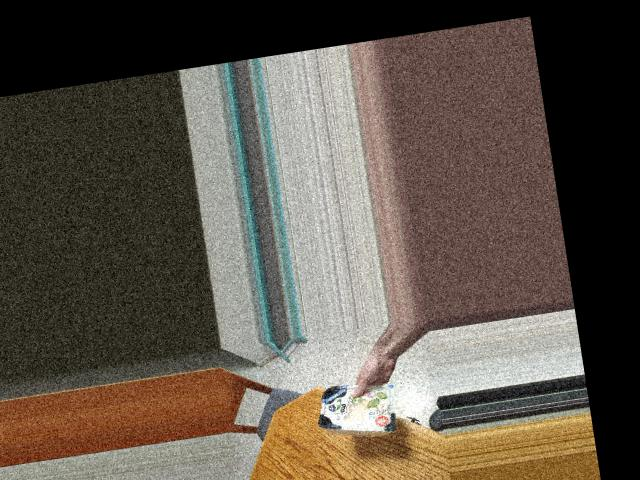cheese: (310, 373, 403, 434)
